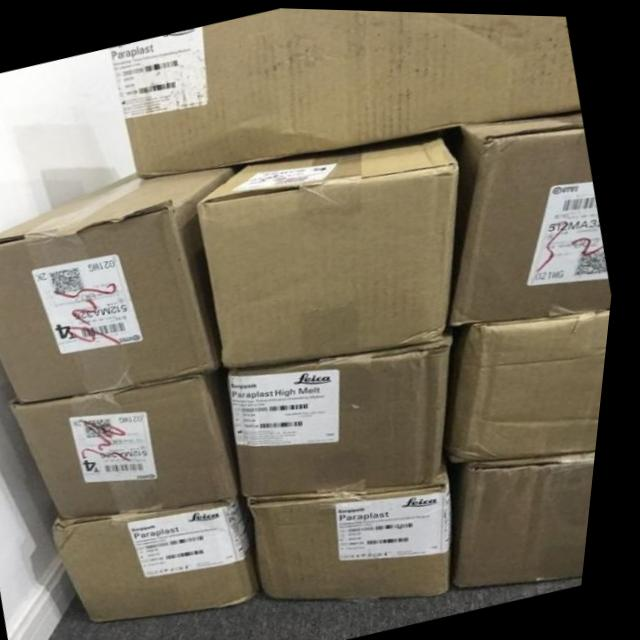box: (111, 6, 579, 173), (200, 127, 459, 366), (0, 160, 252, 403), (441, 106, 617, 323), (231, 331, 456, 497), (20, 366, 252, 517), (447, 308, 616, 477), (252, 463, 461, 594), (60, 498, 270, 620), (456, 446, 605, 583)
